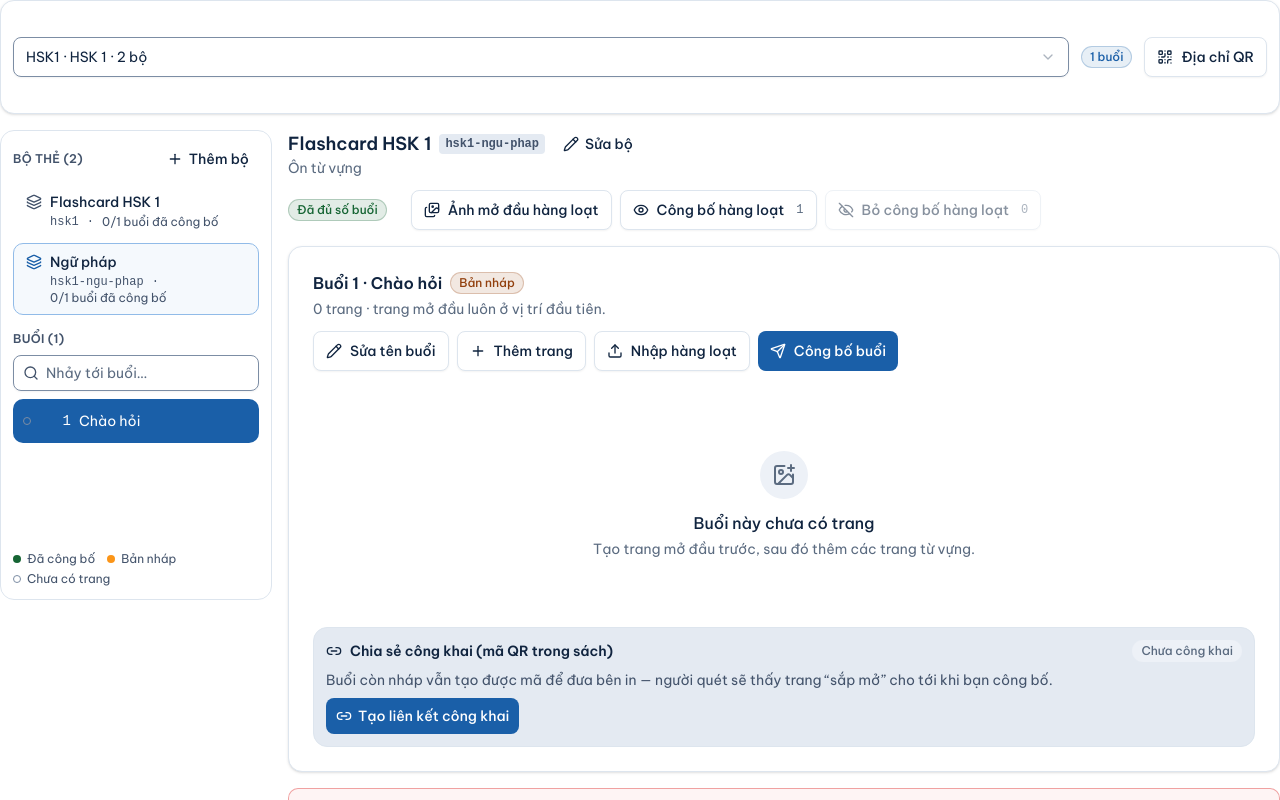
Scenario: FlashcardAdminManager › 🔴 địa chỉ QR bám theo MÃ BỘ, nên hai bộ cùng khoá không giành mã
Click the button "Địa chỉ QR" at (1206, 57), box [1144,37,1267,77]
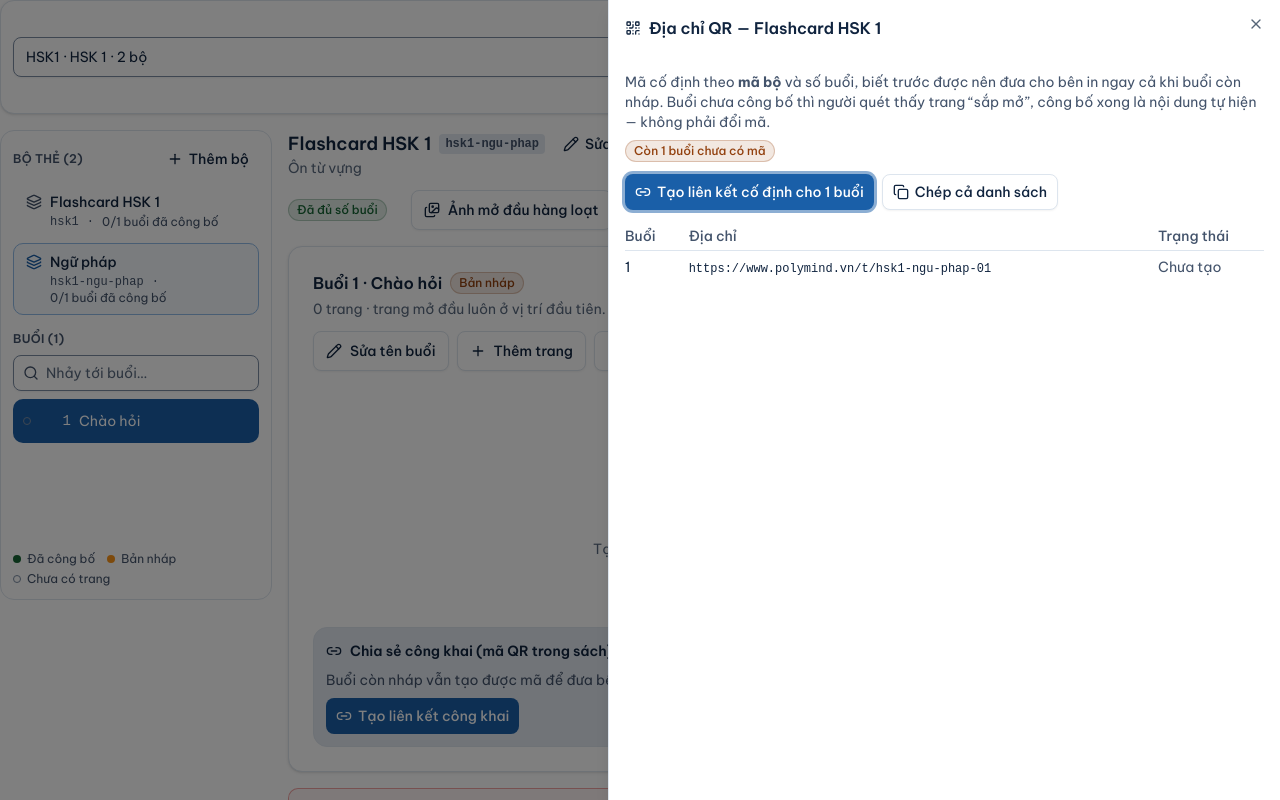
Check: the text "https://www.polymind.vn/t/hsk1-ngu-phap-01" is shown, box [689,262,991,276]
